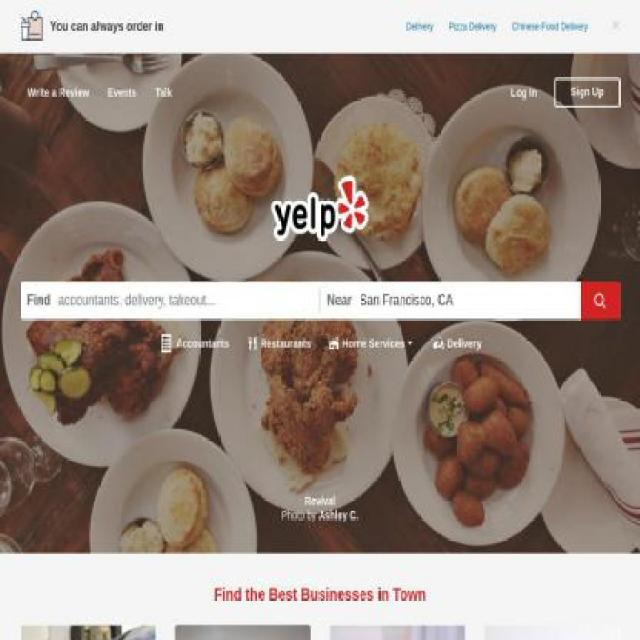button: (20, 78, 97, 108), (554, 78, 620, 109), (20, 626, 157, 640), (175, 626, 312, 640), (329, 626, 466, 640), (484, 626, 621, 640), (580, 282, 620, 320), (100, 78, 145, 108), (503, 78, 545, 108), (148, 78, 180, 108), (611, 13, 620, 36)
field: (58, 291, 313, 311), (360, 291, 574, 311)
